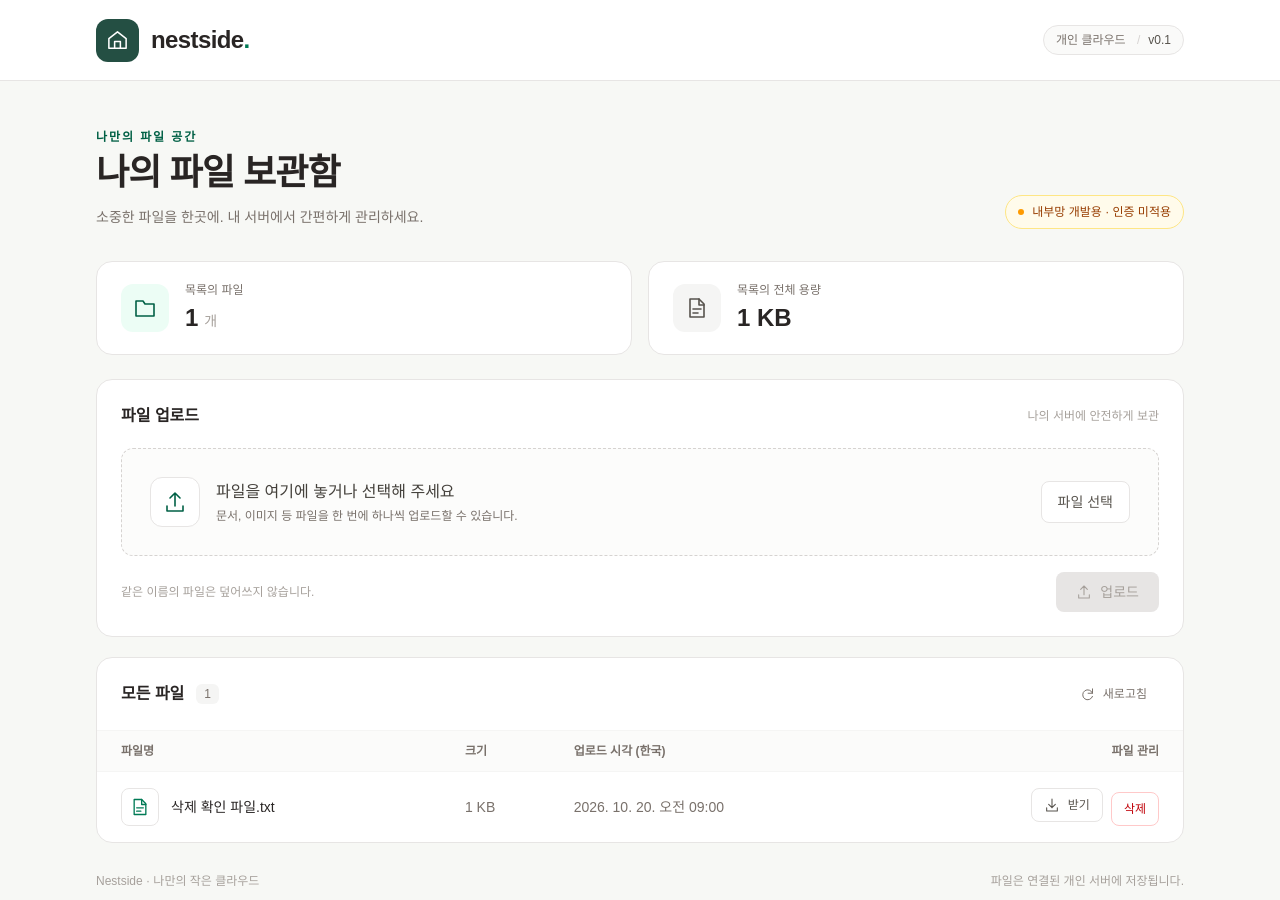
Test: 비활성화 시 파일을 유지하고 안내한다
Step 1. Click the button "삭제" → (1135, 809), box [1111, 792, 1159, 826]
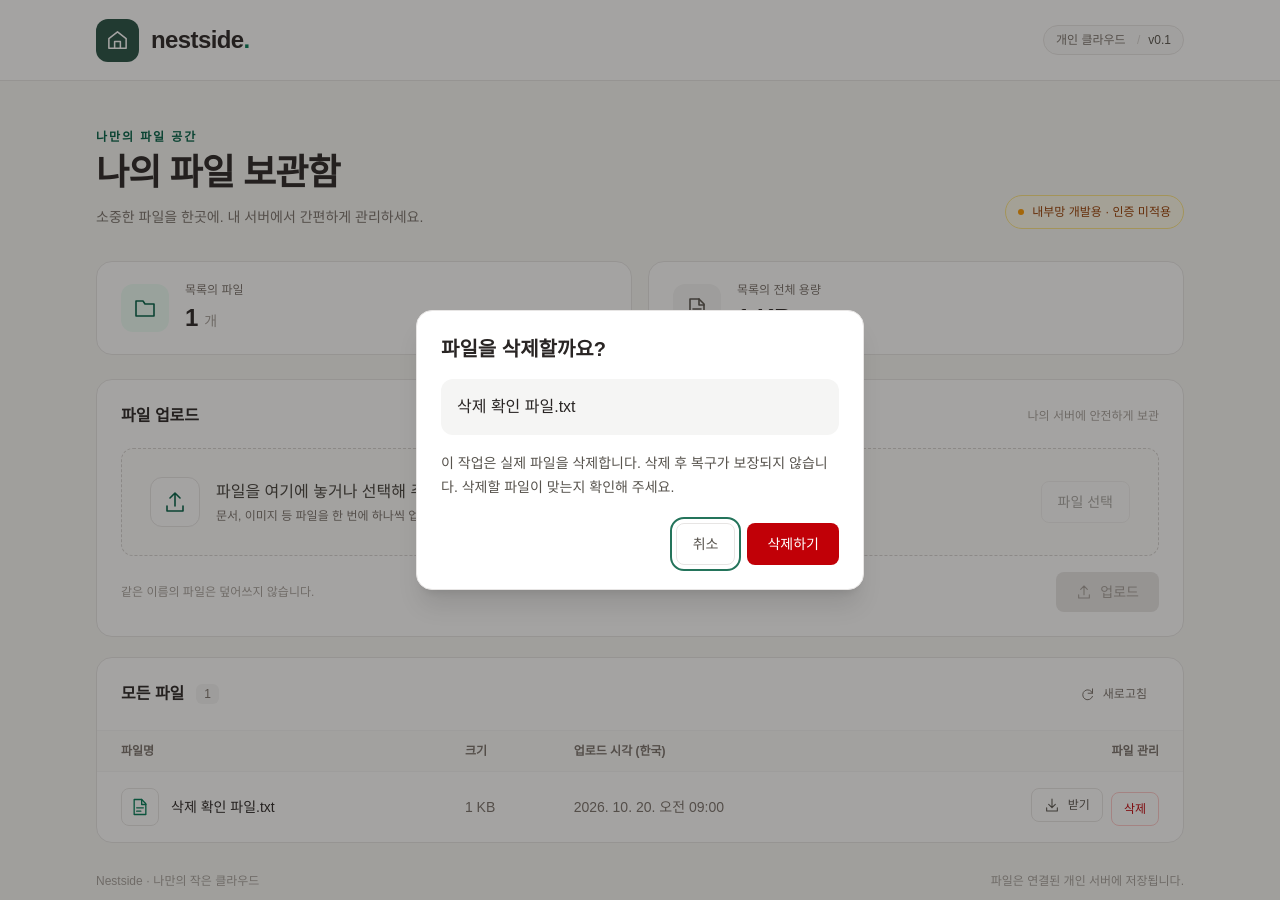
Step 2. Click the button "삭제하기" → (793, 544), box [748, 523, 839, 565]
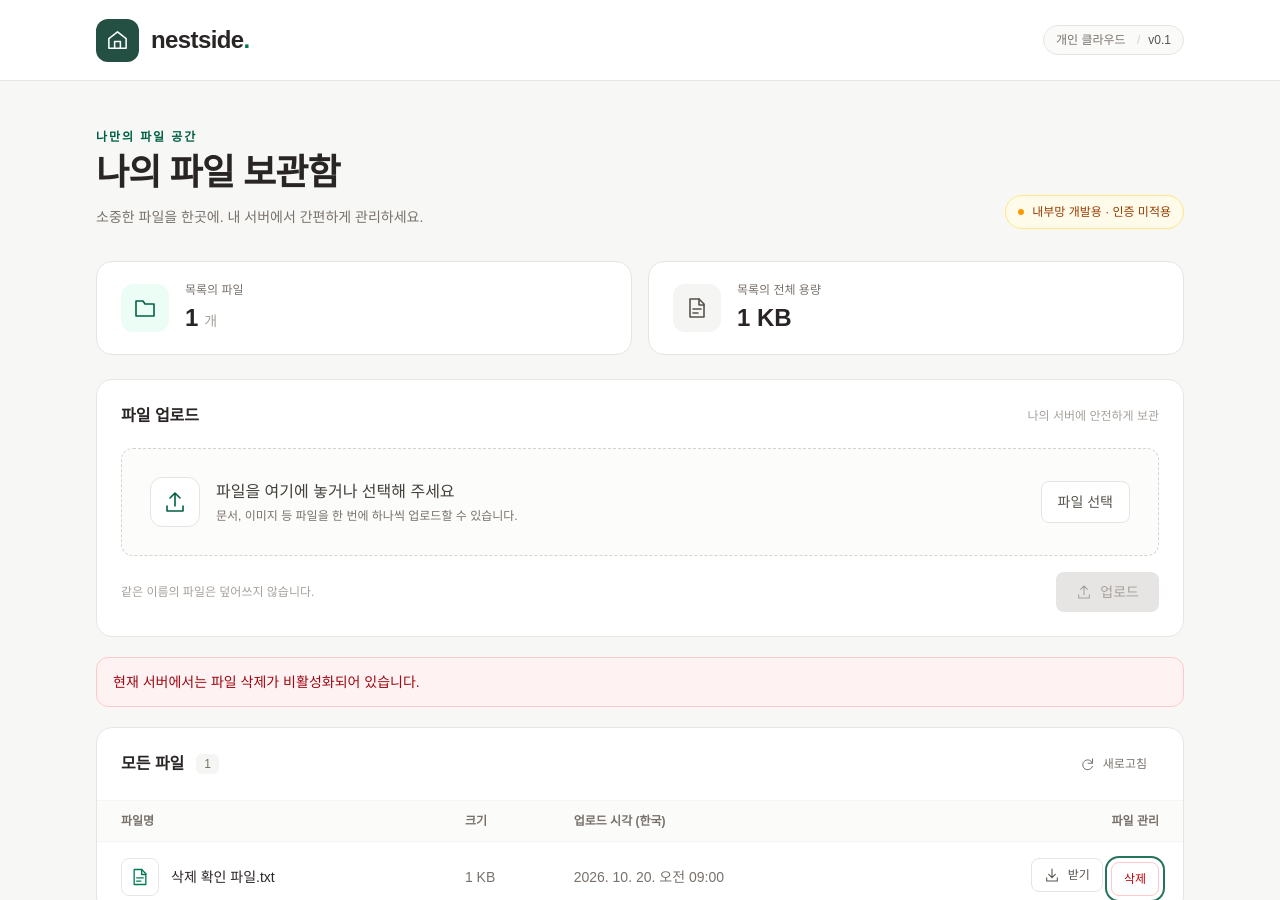
expect the text "현재 서버에서는 파일 삭제가 비활성화되어 있습니다." is shown: met, box [96, 657, 1184, 707]
